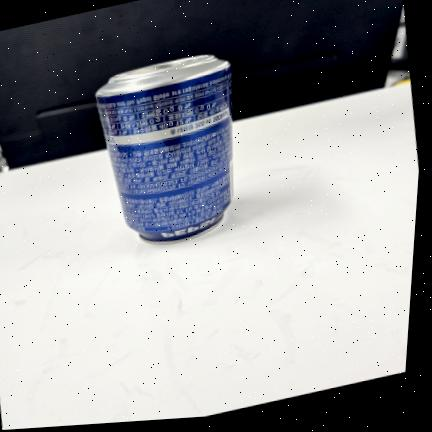can_pepsi: (96, 55, 234, 244)
